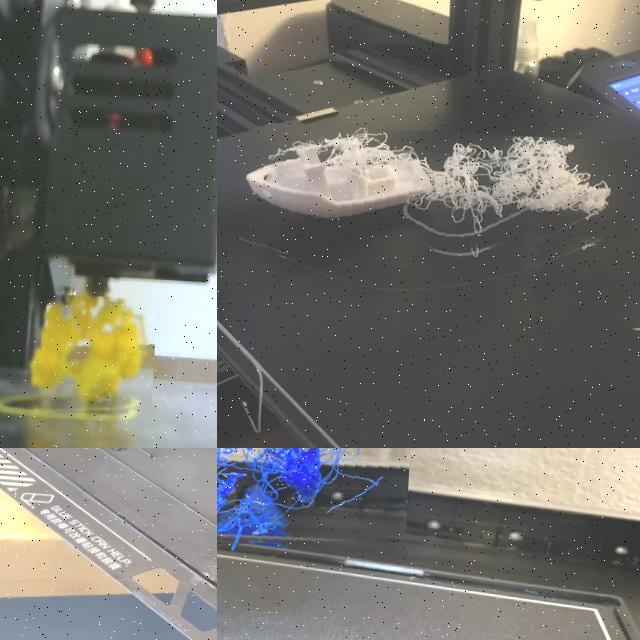spaghetti: (252, 123, 638, 277), (26, 294, 158, 419), (217, 448, 352, 547)
